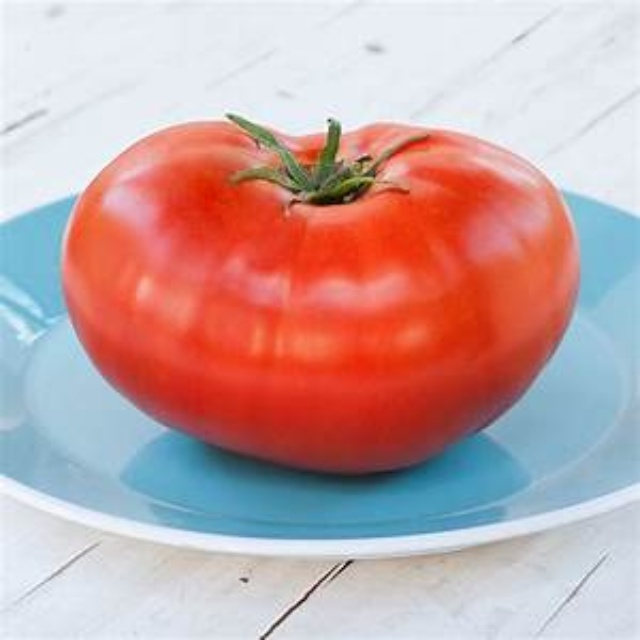tomato: (64, 109, 573, 476)
